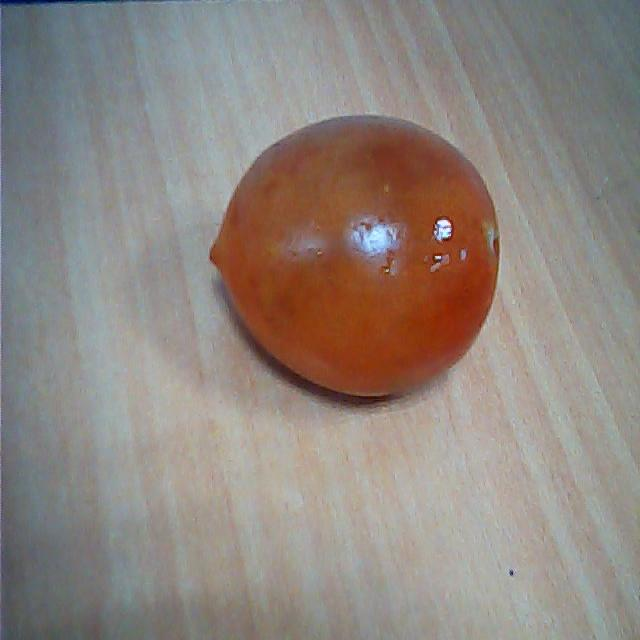maduro: (201, 110, 502, 408)
